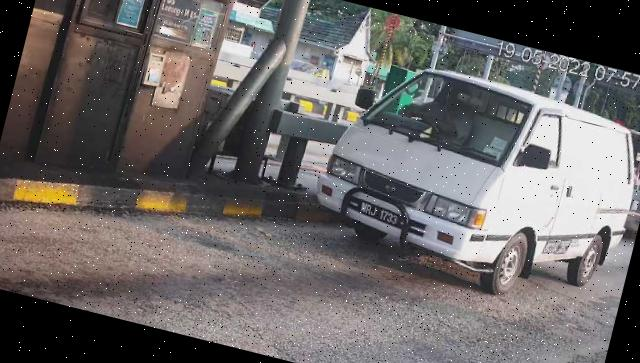License_Plate: (361, 205, 405, 232)
van: (303, 47, 640, 323)
